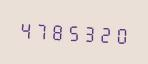eight: (49, 18, 64, 43)
five: (65, 19, 80, 44)
four: (17, 17, 32, 41)
seven: (33, 17, 48, 42)
three: (81, 20, 96, 45)
two: (97, 21, 112, 46)
zero: (113, 22, 128, 46)
